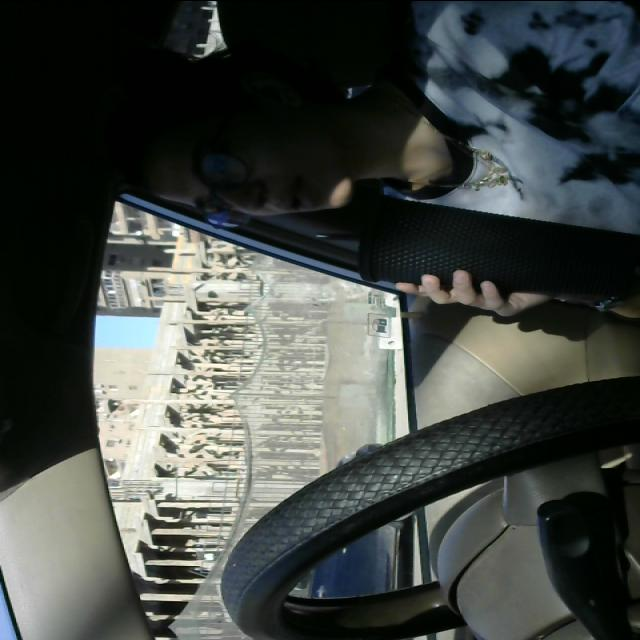drinking: (318, 190, 640, 316)
